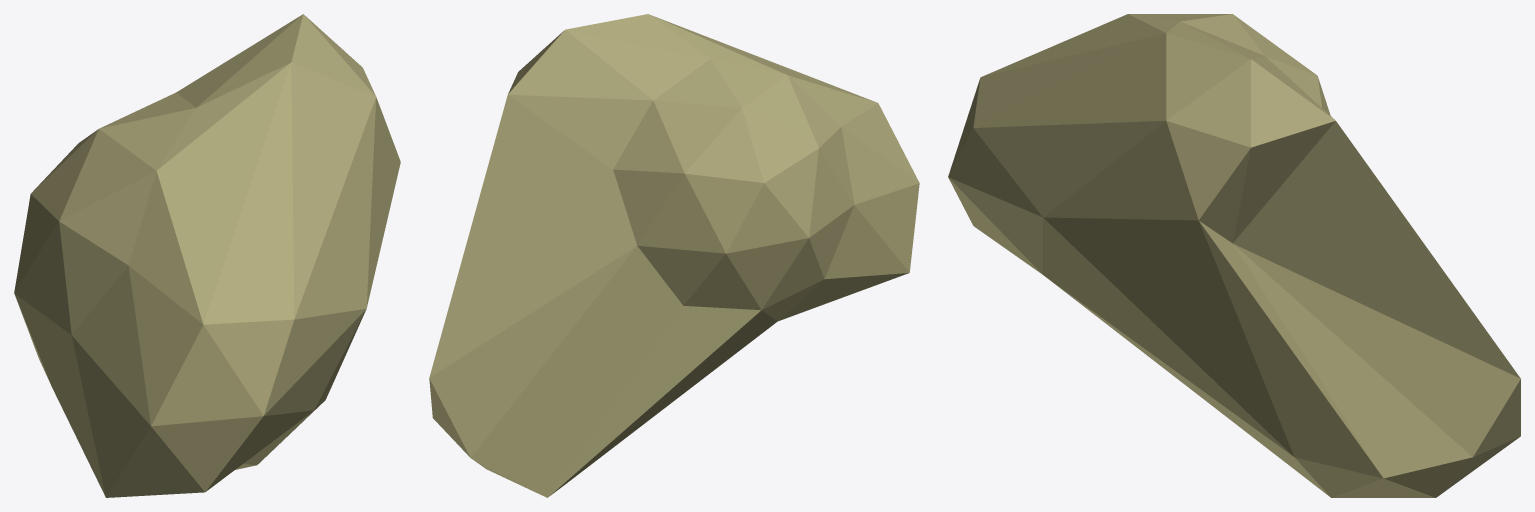
3 views of the same model, side by side, from view 1: azimuth 30°, elevation 25°; view 2: azimuth 150°, elevation 25°; view 3: azimuth 270°, elevation 25° (orthographic). The views are drawn at different scales.
Parts seen in each view (by area): view 1: Asteroid 5; view 2: Asteroid 5; view 3: Asteroid 5.
Part boxes in pixels (bbox=[...]): Asteroid 5: bbox=[14, 14, 400, 497]; Asteroid 5: bbox=[429, 14, 919, 497]; Asteroid 5: bbox=[948, 14, 1520, 497].
Size of the model in its own units: 371 by 467 by 524.
